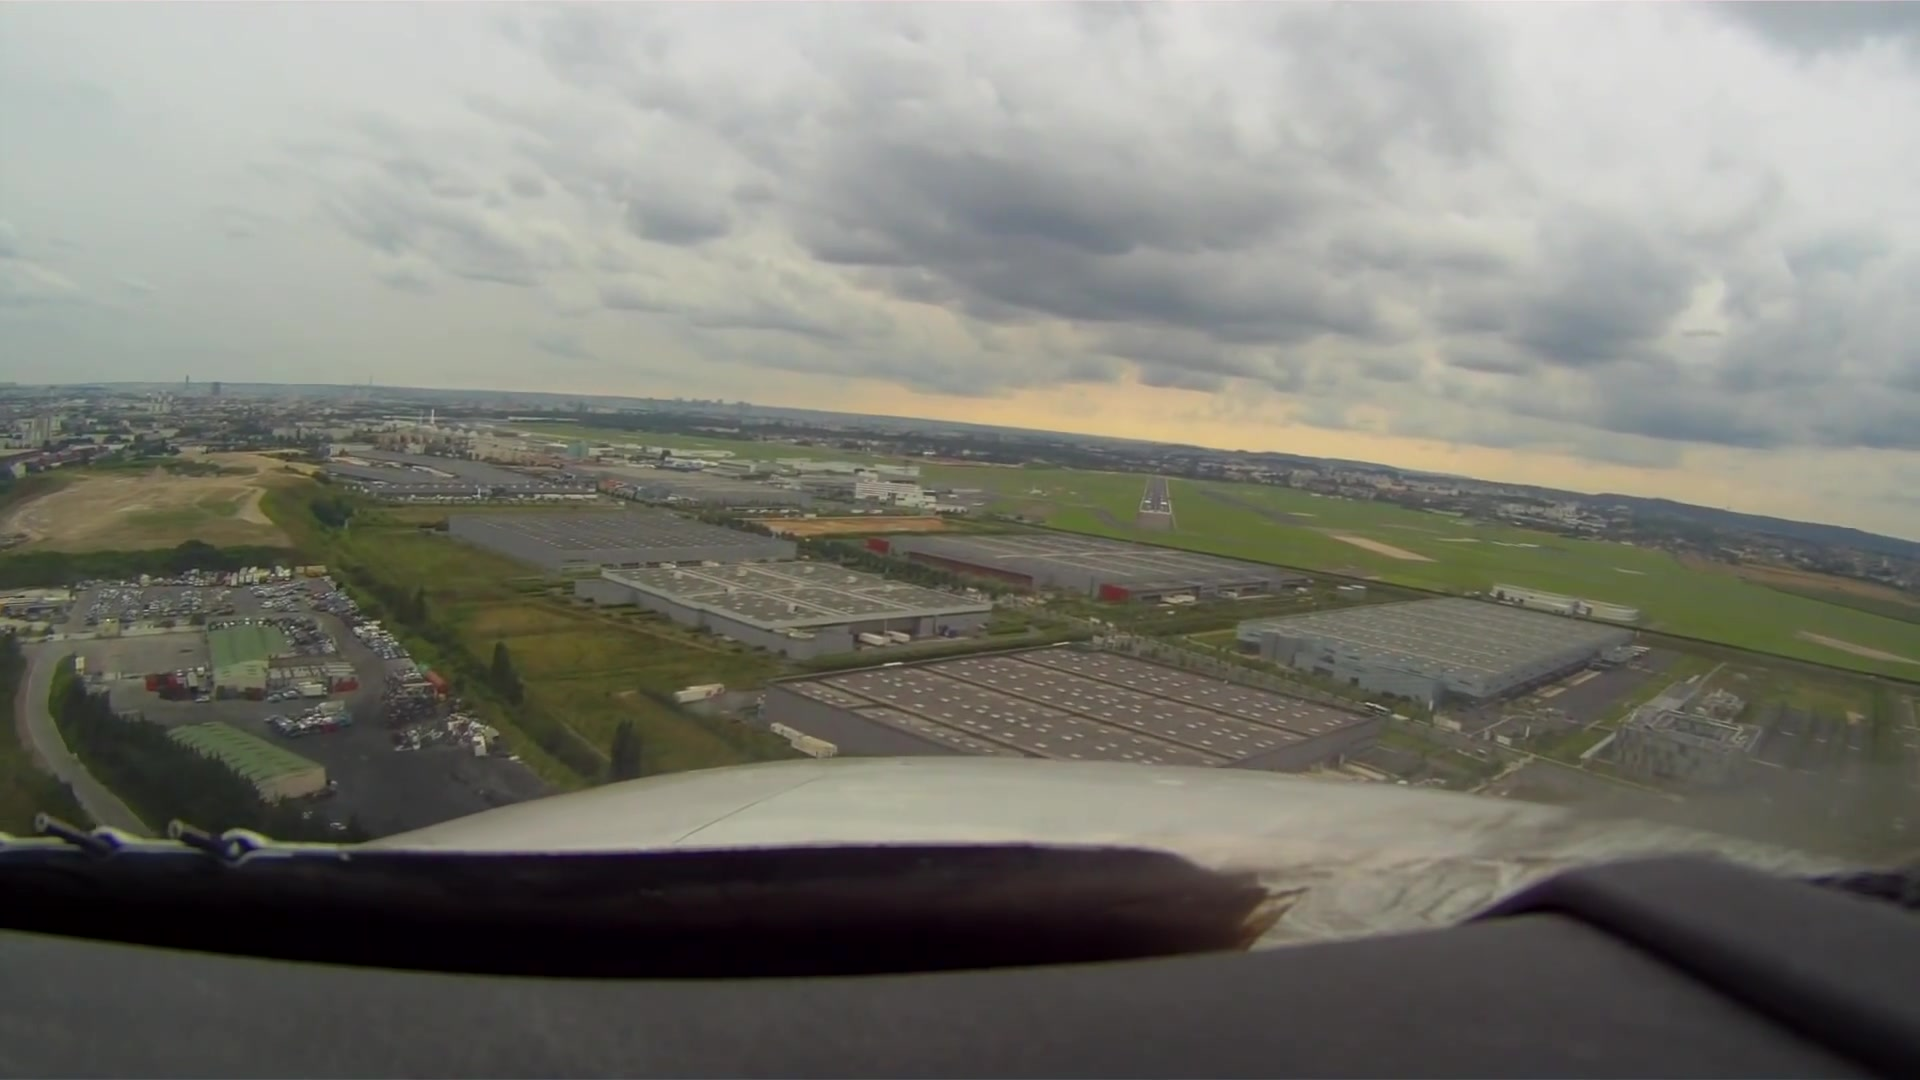runway: (1137, 475, 1172, 518)
